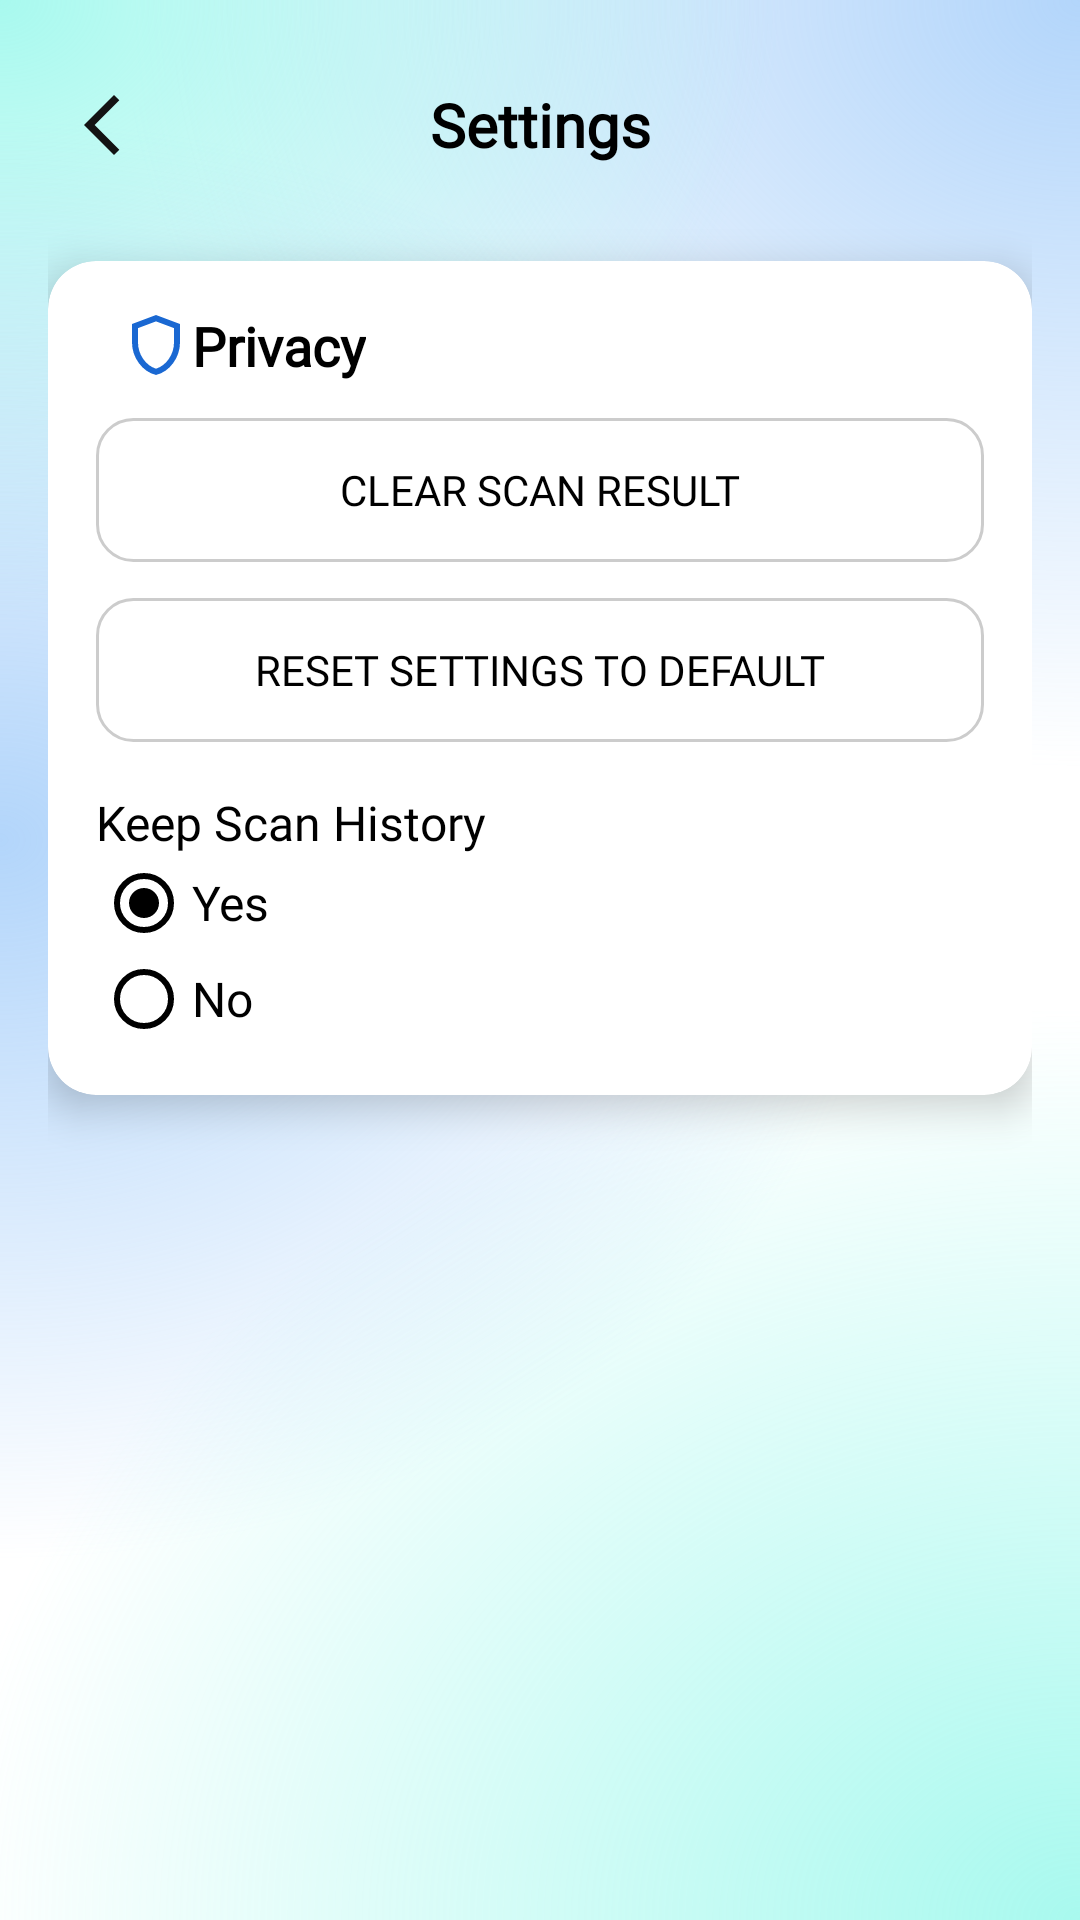

Where icons sit on this 1080*1920 app screen, as [x1=x1, y1=y1, x2=x2, y2=y2]:
arrow back: [x1=84, y1=95, x2=119, y2=155]
